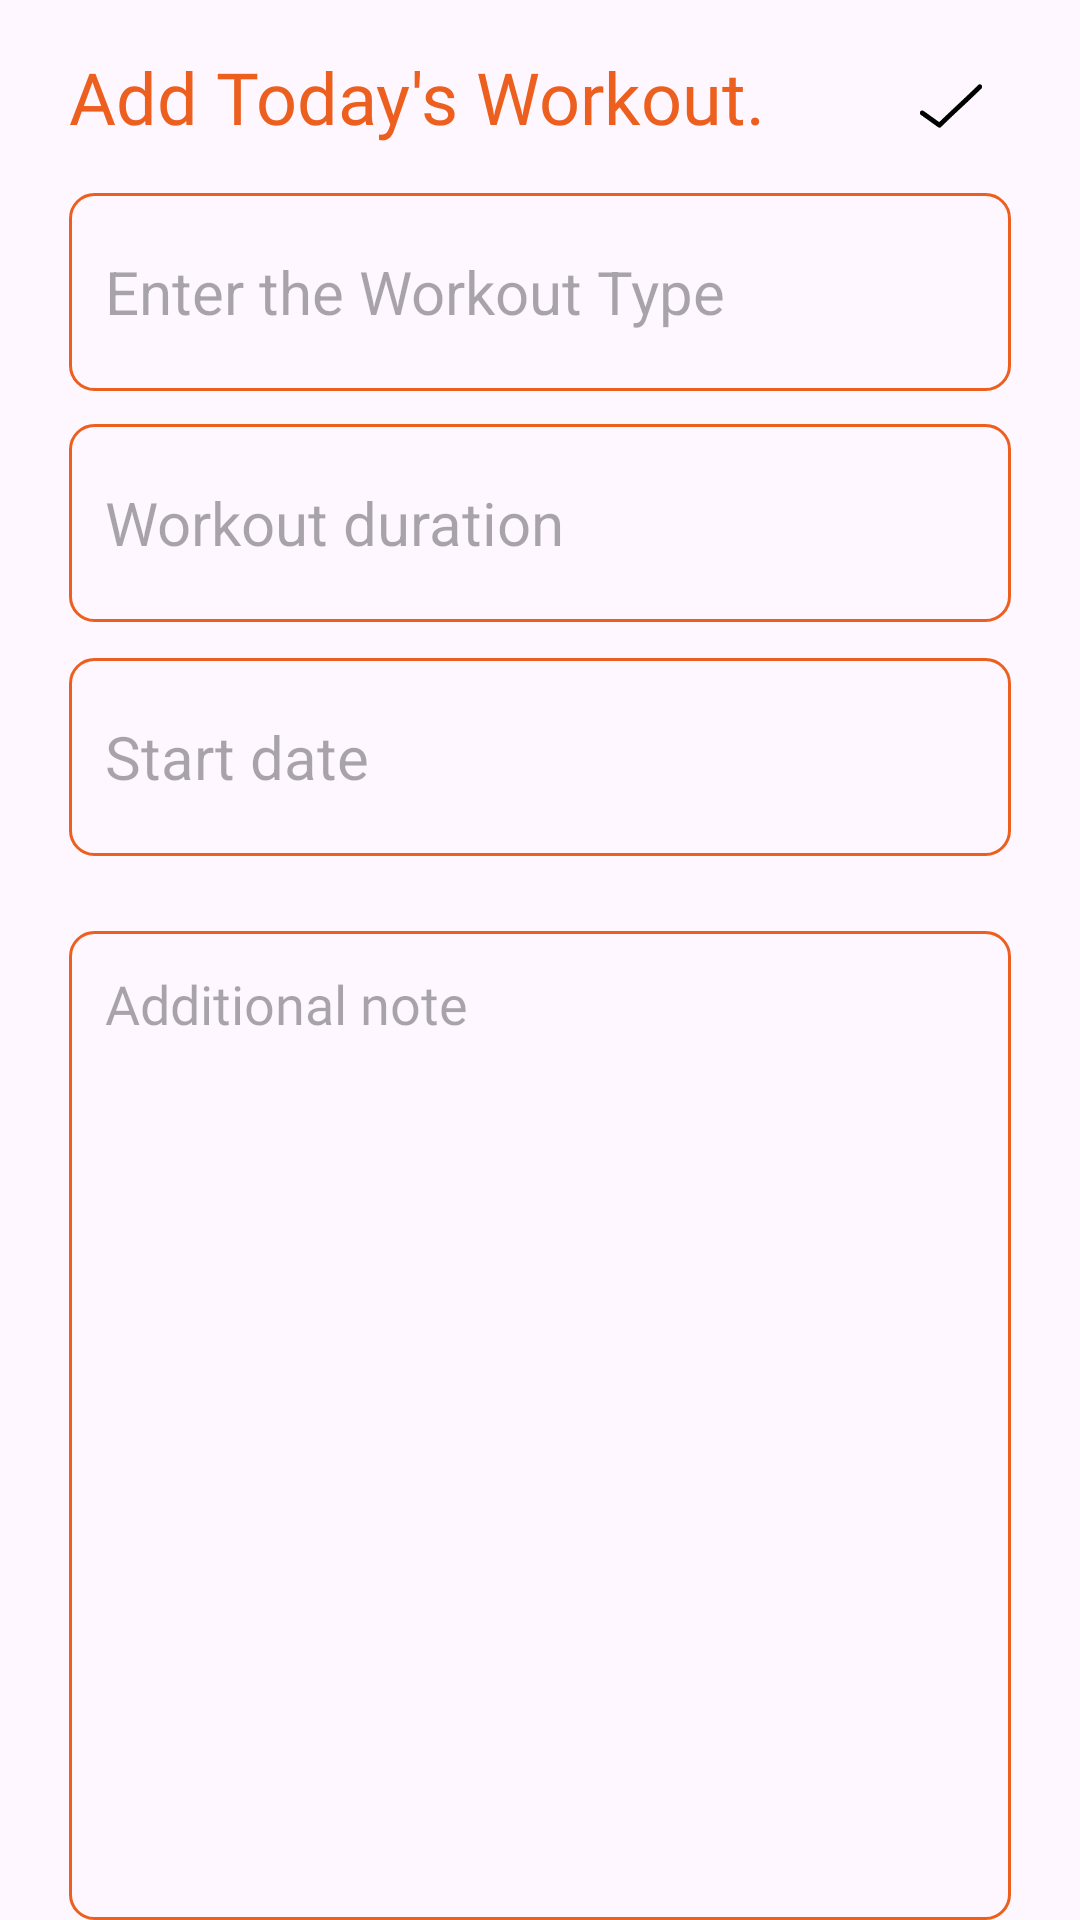

Icons on this 1080 × 1920 Android screen, each with its box as rect(x1, y1, x2, y2):
done: rect(920, 84, 982, 128)
